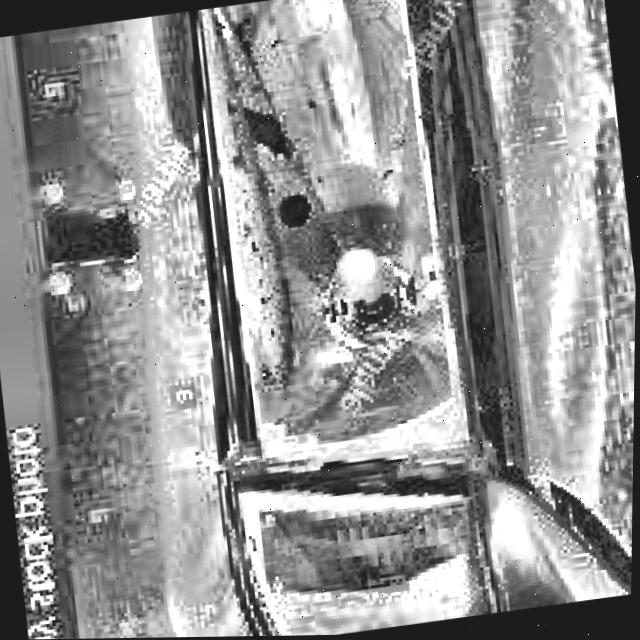head_lamp: (173, 0, 511, 516)
